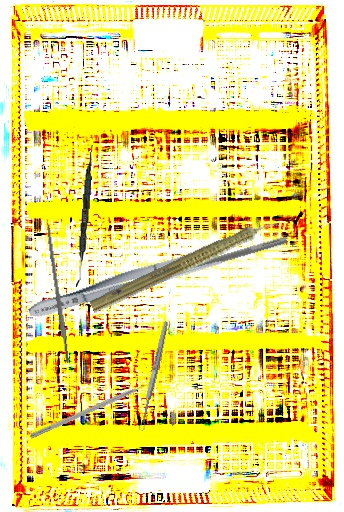Chopper: (29, 378, 159, 446)
Dressing Forceps: (25, 242, 224, 325)
Handpiece: (87, 208, 292, 321)
Scalpel Handle: (44, 224, 71, 364)
Spatula Surgical: (111, 228, 288, 296), (76, 144, 94, 288)
Surgical Spoon: (137, 320, 170, 432)
